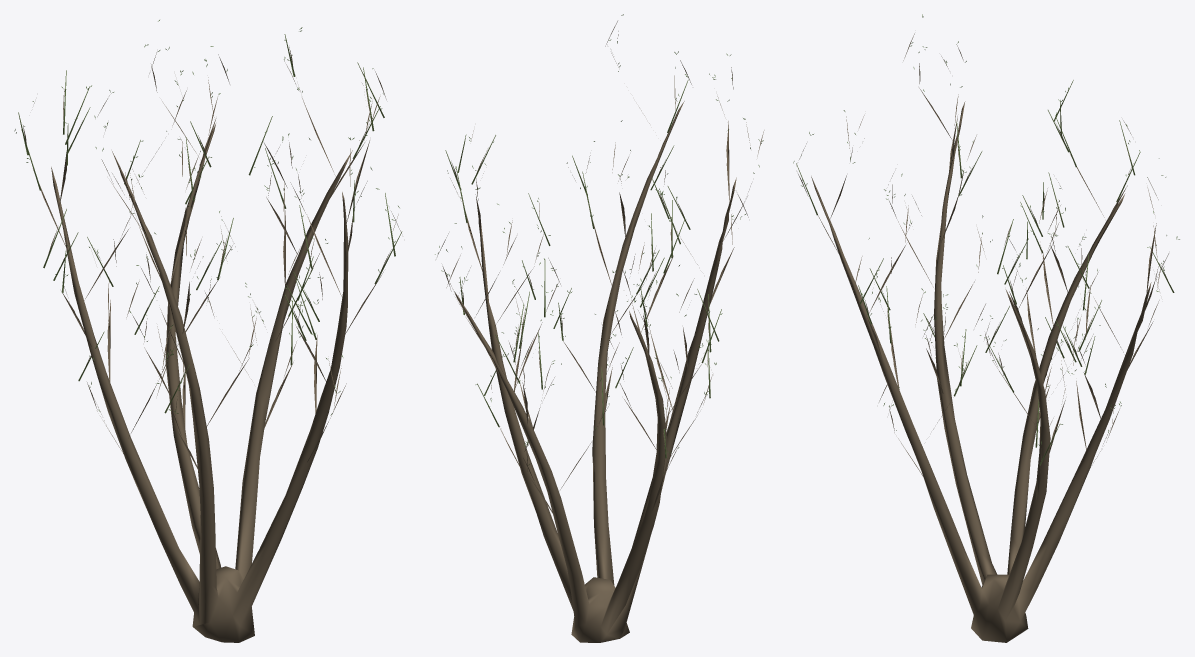
File: Bruyere_0_Niveau2.fbx
3 renders of one model, left to right at view 1: azimuth 30°, elevation 25°; view 2: azimuth 150°, elevation 25°; view 3: azimuth 270°, elevation 25°, orthographic. The views are drawn at different scales.
Parts seen in each view (by area): view 1: Bruyere_0_Niveau2; view 2: Bruyere_0_Niveau2; view 3: Bruyere_0_Niveau2.
Part boxes in pixels (x1,y1,x2,y2): Bruyere_0_Niveau2: [14, 20, 402, 642]; Bruyere_0_Niveau2: [435, 14, 764, 642]; Bruyere_0_Niveau2: [793, 14, 1179, 642].
Size of the model in its own units: 81.05 by 157 by 96.47.
